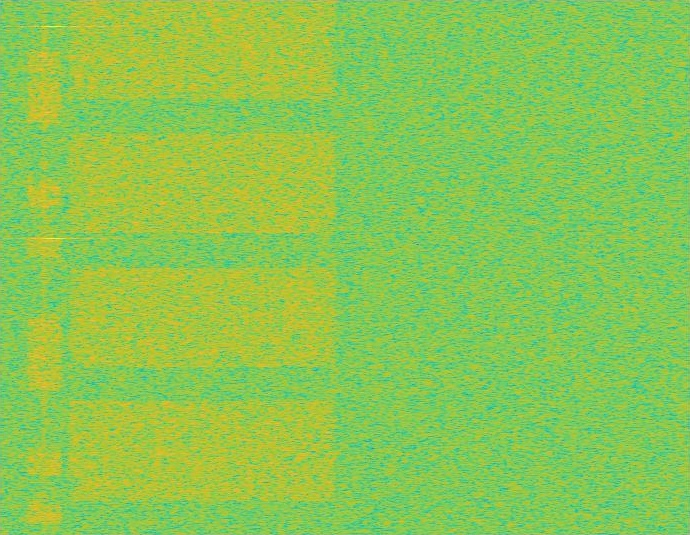5G: (65, 0, 341, 534)
DSSS: (42, 0, 47, 534)
LTE: (27, 0, 62, 534)
Radar: (48, 0, 61, 534)
